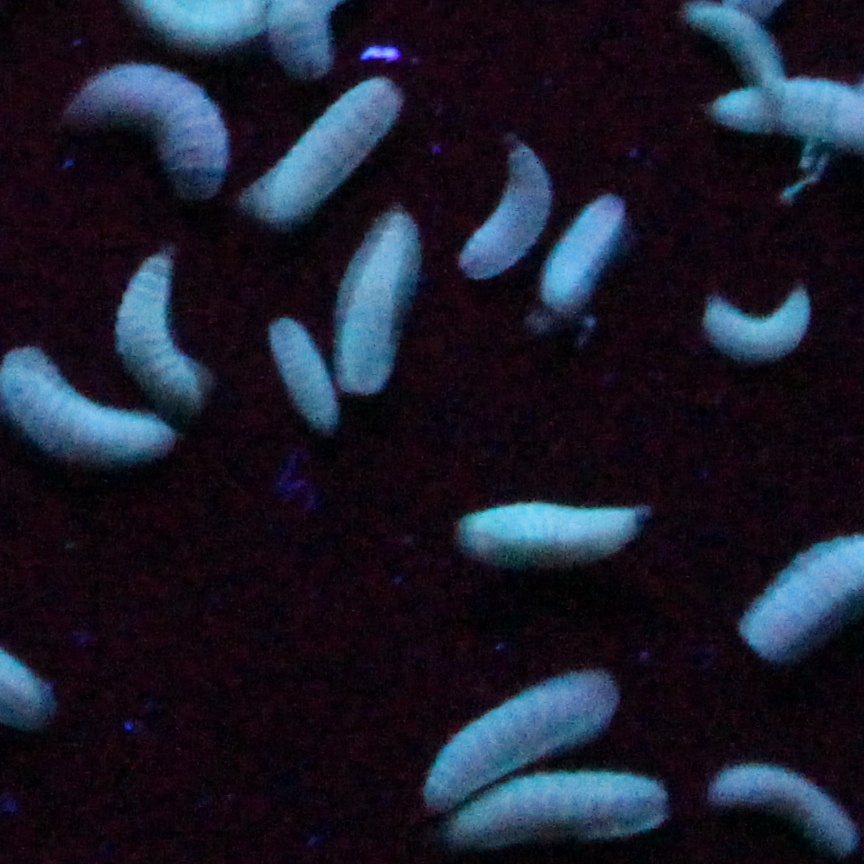larve: (427, 659, 625, 811), (253, 90, 399, 217), (453, 775, 668, 856), (94, 70, 227, 198), (113, 248, 215, 413), (700, 748, 854, 853), (457, 135, 554, 279), (343, 229, 416, 389), (541, 191, 633, 311), (456, 501, 653, 555), (702, 279, 816, 367), (261, 315, 336, 428)
